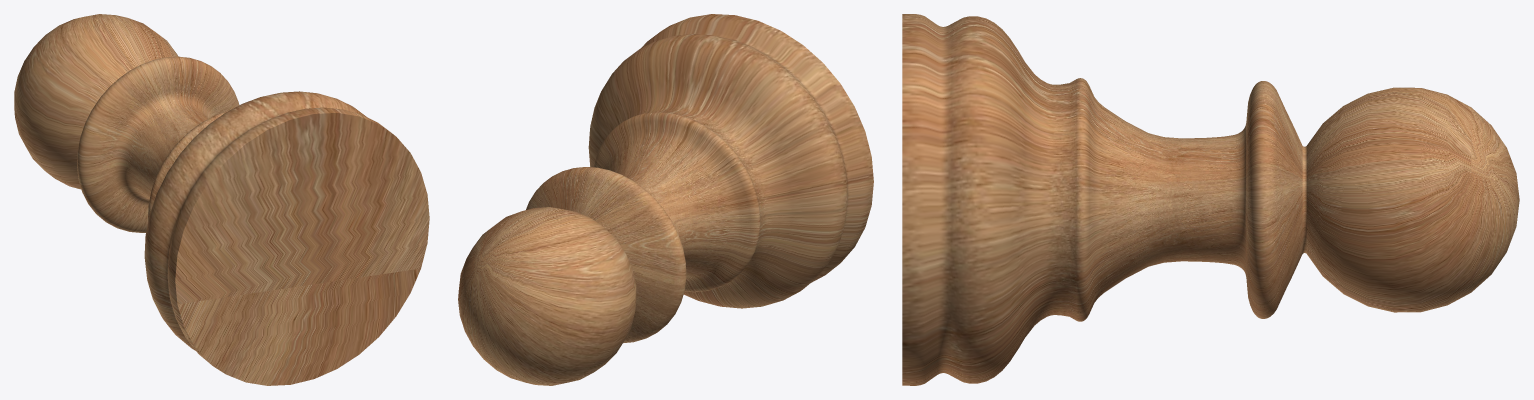
Rendered from ChessPawn.fbx.
3 renders of one model, left to right at view 1: azimuth 30°, elevation 25°; view 2: azimuth 150°, elevation 25°; view 3: azimuth 270°, elevation 25°, orthographic. The views are drawn at different scales.
Parts seen in each view (by area): view 1: uploads_files_2983304_pijun; view 2: uploads_files_2983304_pijun; view 3: uploads_files_2983304_pijun.
Part boxes in pixels (left/top/right/bottom): uploads_files_2983304_pijun: left=14, top=14, right=429, bottom=385; uploads_files_2983304_pijun: left=458, top=14, right=873, bottom=385; uploads_files_2983304_pijun: left=902, top=14, right=1519, bottom=385.
Bounding box in the file's own units: 365 × 364 × 605.
